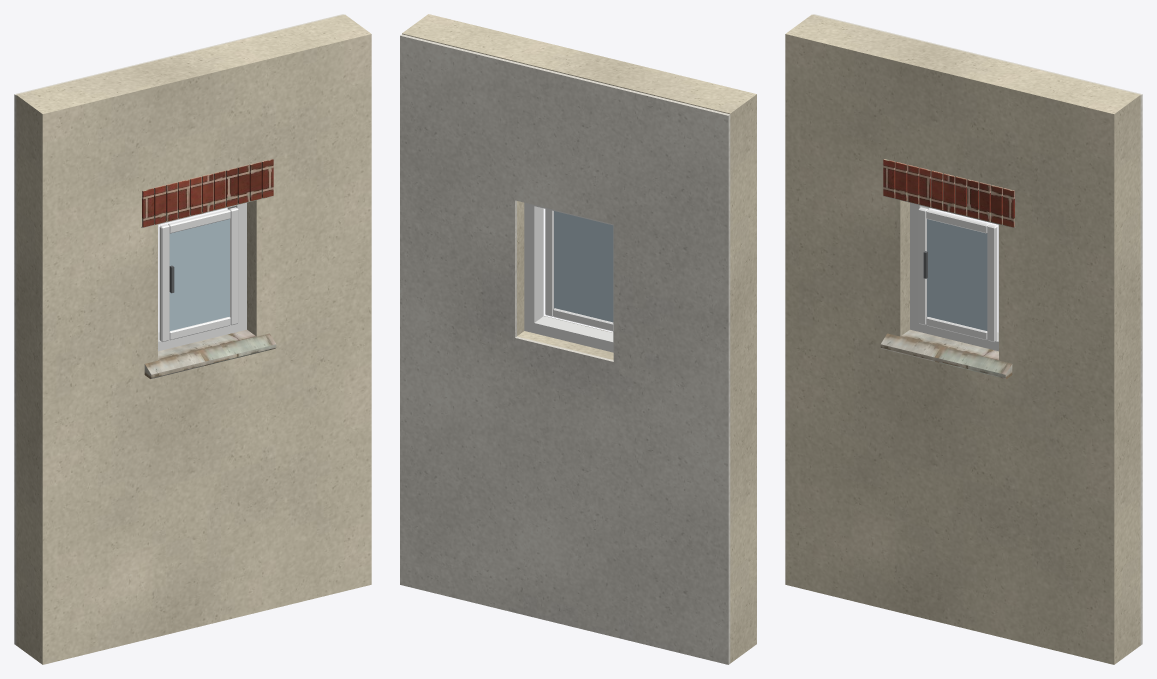
Rendered from w_u_small.glb.
3 views of the same model, side by side, from view 1: azimuth 30°, elevation 25°; view 2: azimuth 150°, elevation 25°; view 3: azimuth 330°, elevation 25° (orthographic).
Visible parts, largest first — view 1: w_u_small_render, w_u_small_glass, w_u_small_brick, w_u_small_sash, w_u_small_cill, w_u_small_plaster, w_u_small_frame; view 2: w_u_small_plaster, w_u_small_render, w_u_small_glass, w_u_small_frame, w_u_small_sash; view 3: w_u_small_render, w_u_small_glass, w_u_small_brick, w_u_small_sash, w_u_small_cill, w_u_small_plaster, w_u_small_frame.
Part boxes in pixels (x1=…): w_u_small_render: x1=16, y1=14, x2=371, y2=664; w_u_small_glass: x1=169, y1=219, x2=229, y2=330; w_u_small_brick: x1=142, y1=159, x2=273, y2=227; w_u_small_sash: x1=159, y1=207, x2=238, y2=341; w_u_small_cill: x1=141, y1=195, x2=276, y2=378; w_u_small_plaster: x1=14, y1=14, x2=343, y2=645; w_u_small_frame: x1=158, y1=202, x2=246, y2=351; w_u_small_plaster: x1=400, y1=34, x2=730, y2=664; w_u_small_render: x1=402, y1=14, x2=756, y2=663; w_u_small_glass: x1=554, y1=211, x2=613, y2=322; w_u_small_frame: x1=524, y1=202, x2=613, y2=352; w_u_small_sash: x1=545, y1=209, x2=613, y2=331; w_u_small_render: x1=785, y1=14, x2=1140, y2=664; w_u_small_glass: x1=927, y1=219, x2=987, y2=330; w_u_small_brick: x1=883, y1=159, x2=1014, y2=227; w_u_small_sash: x1=918, y1=207, x2=997, y2=341; w_u_small_cill: x1=880, y1=195, x2=1015, y2=378; w_u_small_plaster: x1=813, y1=14, x2=1142, y2=645; w_u_small_frame: x1=910, y1=202, x2=998, y2=351.
Bounding box in the file's own units: 2 × 3.2 × 0.37.
8 materials, 4 textured.
